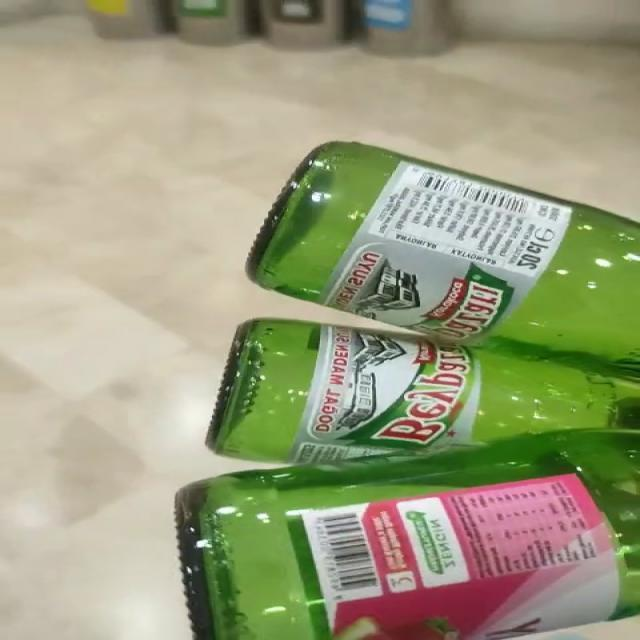Glass: (176, 142, 640, 640)
